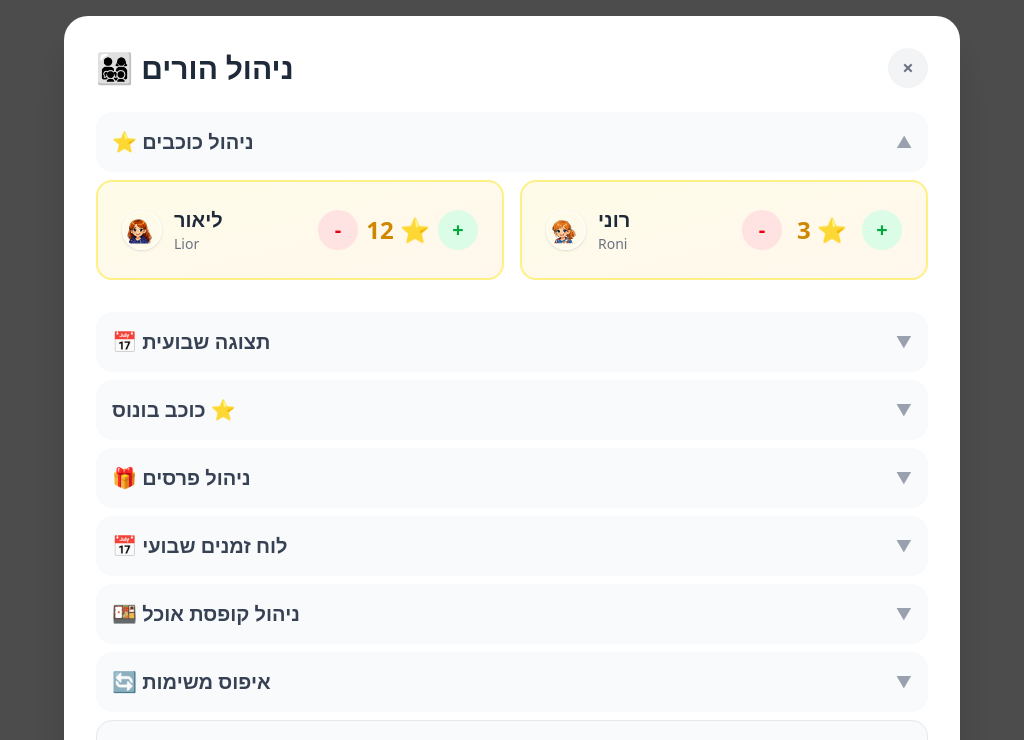
AdminPanel › disables redeem button when kid cannot afford reward
# Open rewards section
Click the heading "🎁 ניהול פרסים": (181,478) x1=112 y1=464 x2=251 y2=492
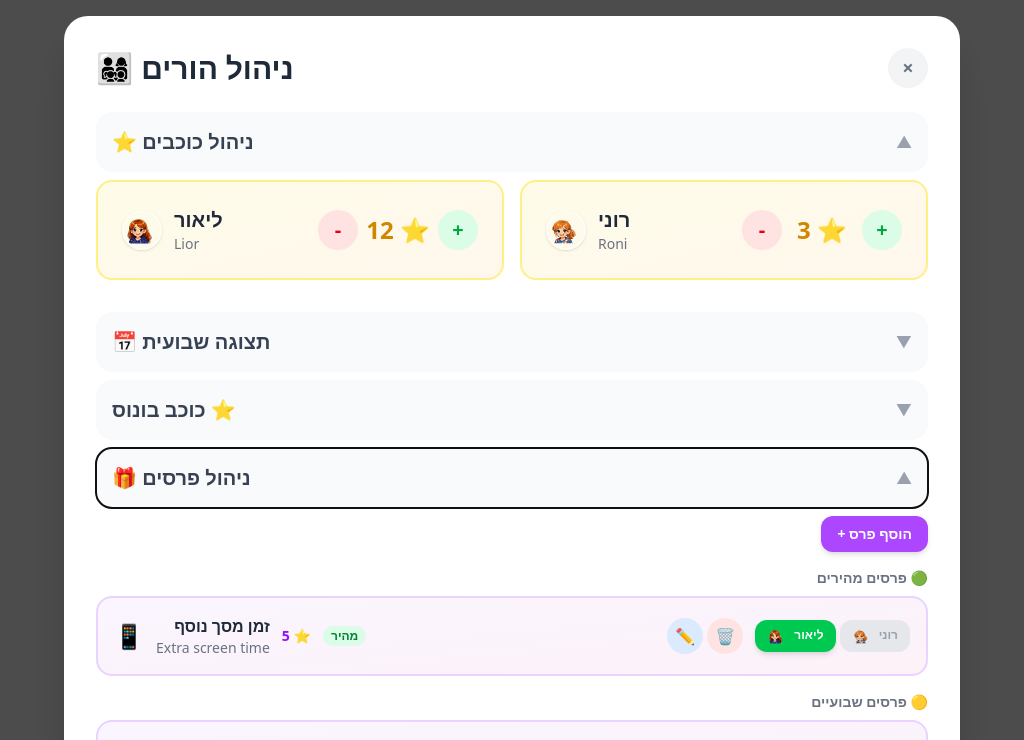
expect the button titled "Redeem for Roni" in the row of "זמן מסך נוסף" is disabled: met, box x1=840 y1=620 x2=910 y2=652
